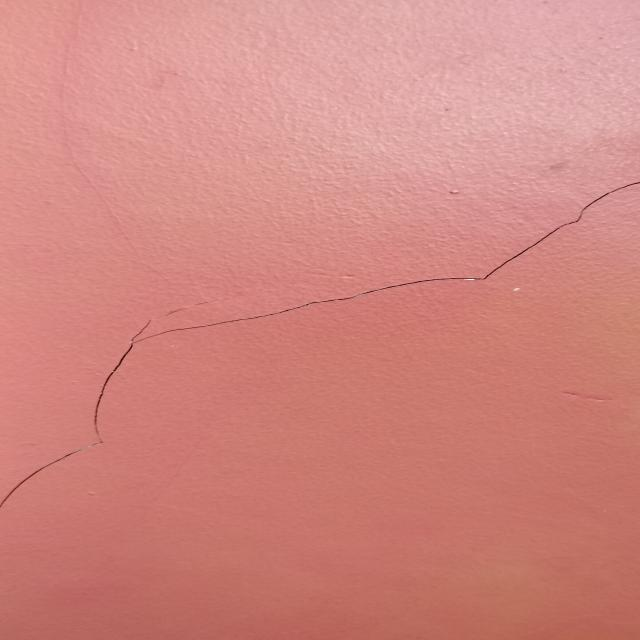Crack: (3, 172, 640, 518)
